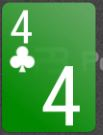Clover: (10, 46, 36, 73)
